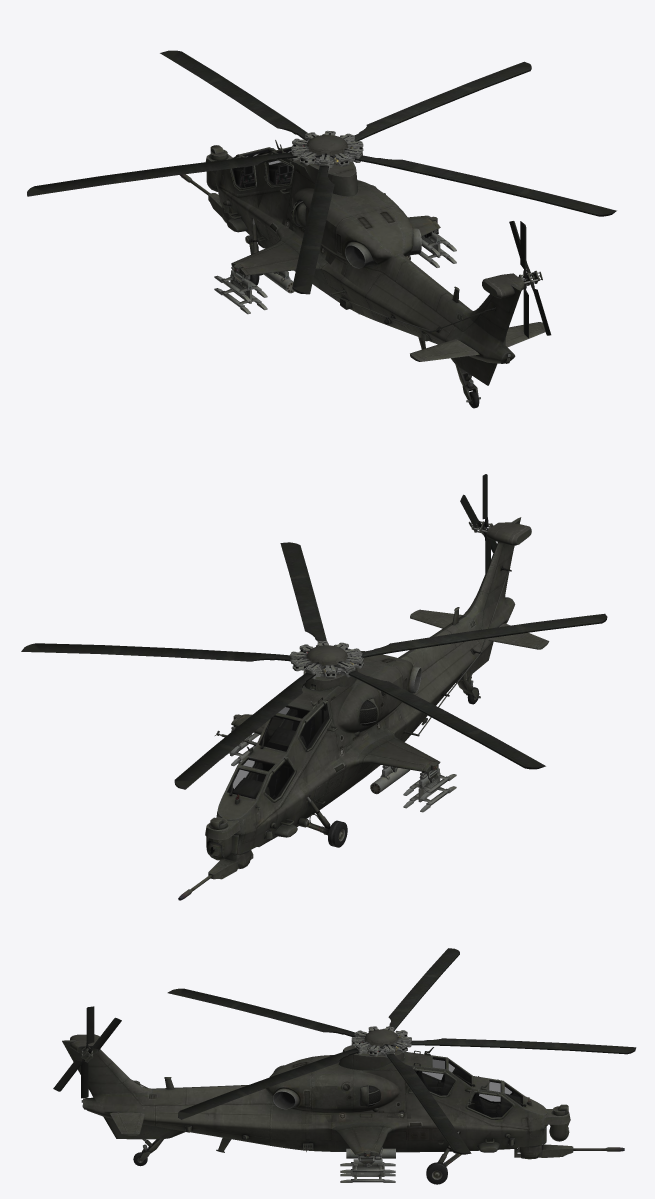
File: type_z10.glb
3 views of the same model, one above another, from view 1: azimuth 30°, elevation 25°; view 2: azimuth 150°, elevation 25°; view 3: azimuth 270°, elevation 25° (orthographic). The views are drawn at different scales.
Visible parts, largest first — view 1: Object_2, Object_8, Object_7, Object_6, Object_4, Object_3, Object_5, Object_11; view 2: Object_2, Object_8, Object_7, Object_6, Object_3, Object_4, Object_11, Object_5; view 3: Object_7, Object_2, Object_3, Object_8, Object_6, Object_4, Object_5, Object_11.
Boxes of the visible parts, box(x1,y1,x2,y2) form: Object_2: box(27, 50, 616, 383); Object_8: box(223, 140, 521, 363); Object_7: box(205, 146, 524, 402); Object_6: box(215, 140, 507, 384); Object_4: box(180, 130, 545, 408); Object_3: box(209, 135, 551, 338); Object_5: box(214, 133, 497, 402); Object_11: box(231, 147, 291, 188); Object_2: box(21, 542, 607, 858); Object_8: box(205, 518, 520, 854); Object_7: box(206, 517, 531, 854); Object_6: box(212, 543, 512, 858); Object_3: box(207, 474, 496, 860); Object_4: box(178, 521, 549, 900); Object_11: box(211, 704, 329, 856); Object_5: box(222, 609, 493, 826); Object_7: box(62, 1034, 569, 1179); Object_2: box(167, 948, 636, 1184); Object_3: box(53, 1006, 569, 1151); Object_8: box(62, 1041, 570, 1155); Object_6: box(111, 1047, 540, 1179); Object_4: box(81, 1026, 624, 1166); Object_5: box(103, 1028, 513, 1182); Object_11: box(415, 1056, 569, 1131).
Bounding box in the file's own units: 11.72 × 4.67 × 14.15.
4 materials, 1 textured.
